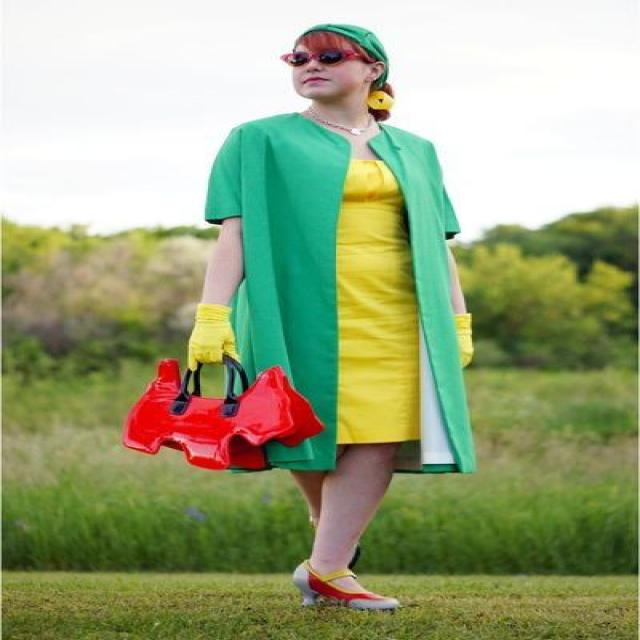bag: (123, 353, 323, 472)
dress: (336, 159, 421, 443)
jacket: (173, 112, 478, 473)
shoe: (288, 550, 363, 609)
sunglass: (290, 48, 352, 66)
